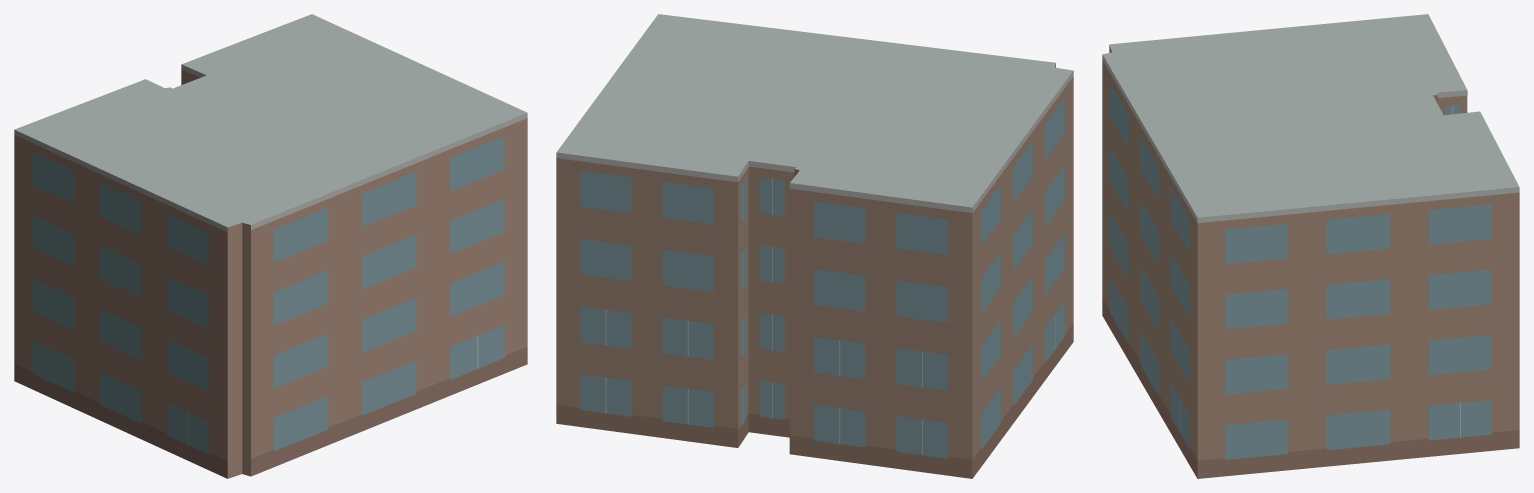
Rendered from survey-upis-33037405.glb.
3 renders of one model, left to right at view 1: azimuth 30°, elevation 25°; view 2: azimuth 150°, elevation 25°; view 3: azimuth 270°, elevation 25°, orthographic. The views are drawn at different scales.
Parts seen in each view (by area): view 1: survey-upis-33037405.tmp; view 2: survey-upis-33037405.tmp; view 3: survey-upis-33037405.tmp.
Part boxes in pixels (box(x1,y1,x2,y2)): survey-upis-33037405.tmp: box(14, 14, 527, 478); survey-upis-33037405.tmp: box(556, 14, 1073, 478); survey-upis-33037405.tmp: box(1102, 14, 1519, 478).
Bounding box in the file's own units: 19.77 × 11.8 × 17.1.
